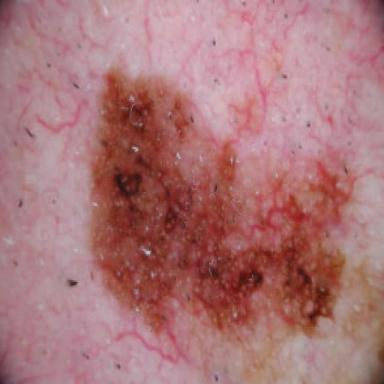Melanoma: (90, 57, 357, 340)
